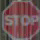Stop: (1, 5, 39, 32)
